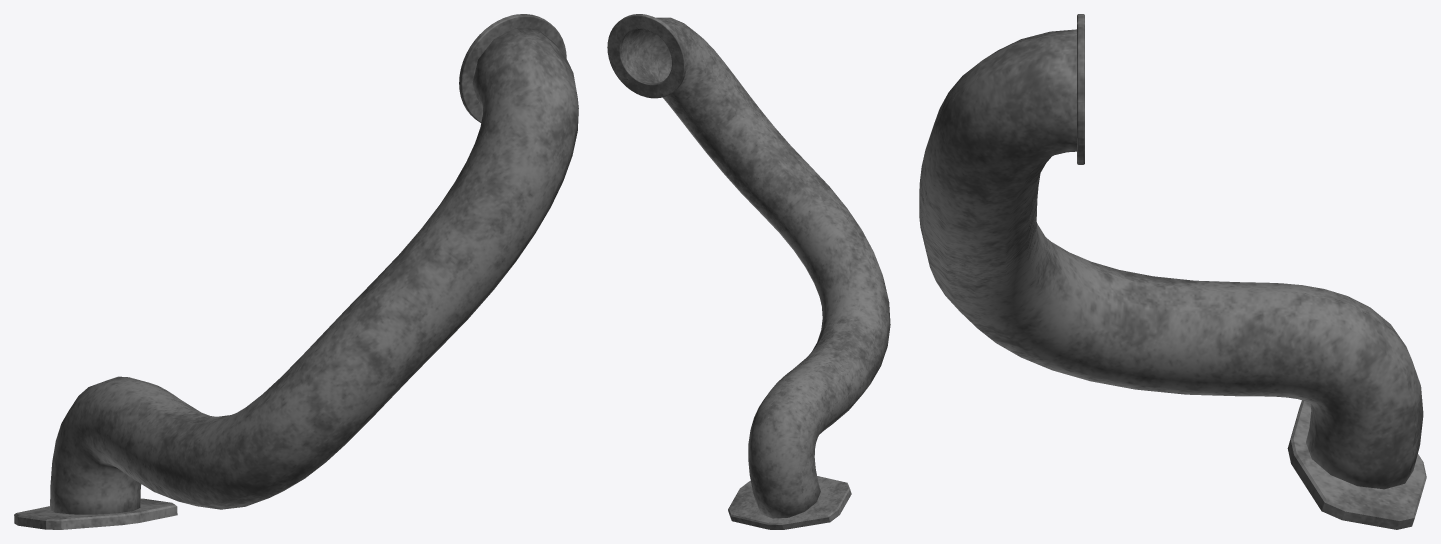
File: turboSmall-exhaust-outlet-tube.fbx
3 renders of one model, left to right at view 1: azimuth 30°, elevation 25°; view 2: azimuth 150°, elevation 25°; view 3: azimuth 270°, elevation 25°, orthographic. The views are drawn at different scales.
Visible parts, largest first — view 1: turboSmall-exhaust-outlet-tube; view 2: turboSmall-exhaust-outlet-tube; view 3: turboSmall-exhaust-outlet-tube.
Part boxes in pixels (x1,y1,x2,y2): turboSmall-exhaust-outlet-tube: (14, 14, 578, 529); turboSmall-exhaust-outlet-tube: (607, 14, 890, 529); turboSmall-exhaust-outlet-tube: (919, 14, 1426, 529).
Bounding box in the file's own units: 23.56 × 27.63 × 19.37.
